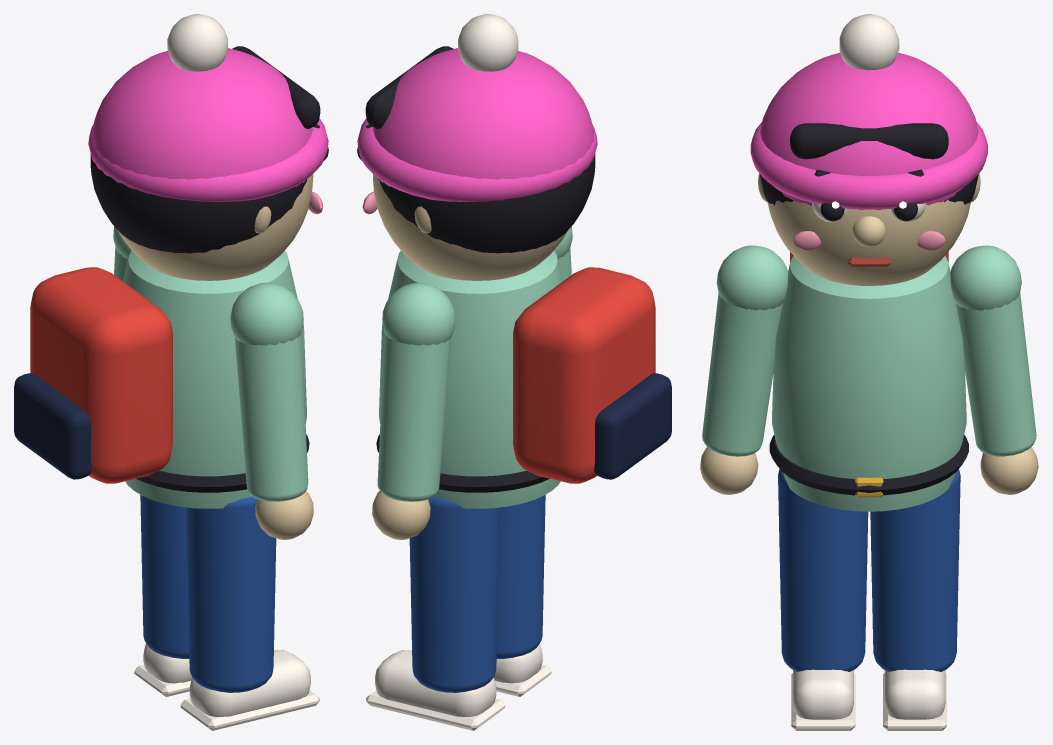
File: ped_student.glb
3 views of the same model, side by side, from view 1: azimuth 30°, elevation 25°; view 2: azimuth 150°, elevation 25°; view 3: azimuth 270°, elevation 25° (orthographic).
Visible parts, largest first — view 1: ped_student; view 2: ped_student; view 3: ped_student.
Part boxes in pixels (x1,y1,x2,y2): ped_student: (14,14,328,730); ped_student: (357,14,671,730); ped_student: (700,14,1038,730).
Size of the model in its own units: 0.6222 by 1.49 by 0.6762.
Materials: 1 (1 with a texture image).
